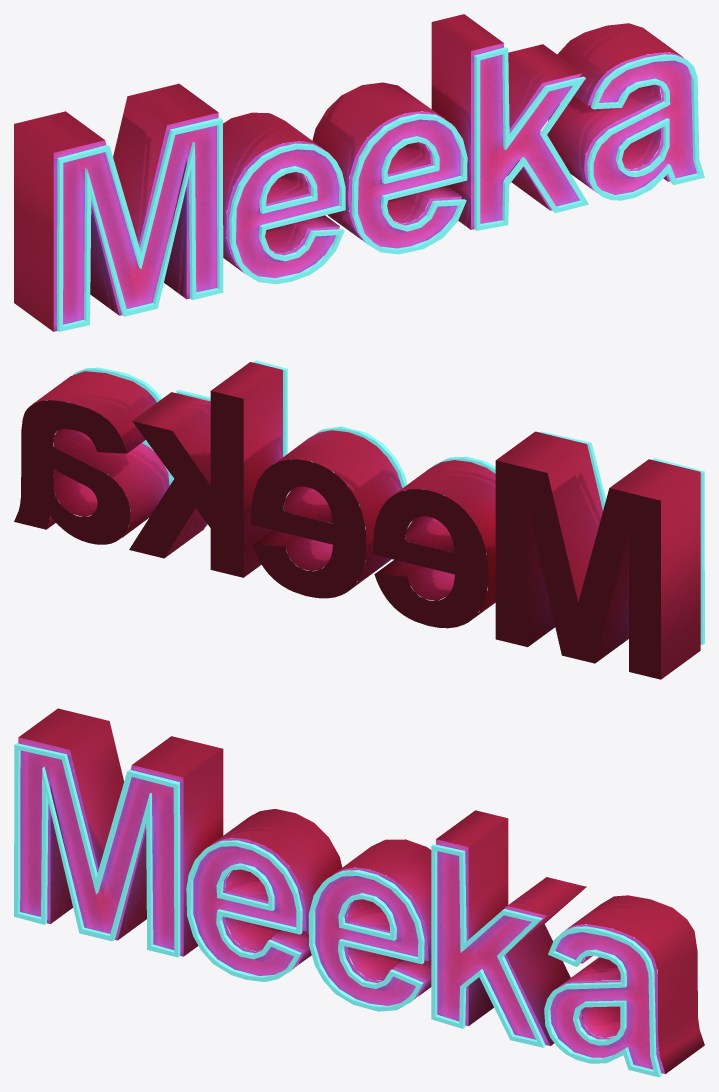
The model's file is sign.gltf.
3 renders of one model, top to bottom at view 1: azimuth 30°, elevation 25°; view 2: azimuth 150°, elevation 25°; view 3: azimuth 330°, elevation 25°, orthographic.
Visible parts, largest first — view 1: Text.001; view 2: Text.001; view 3: Text.001.
Part boxes in pixels (x1=…): Text.001: x1=14, y1=14, x2=704, y2=331; Text.001: x1=14, y1=360, x2=704, y2=679; Text.001: x1=14, y1=708, x2=704, y2=1077.
Bounding box in the file's own units: 1.89 × 0.508 × 0.2258.
1 material, 1 textured.
